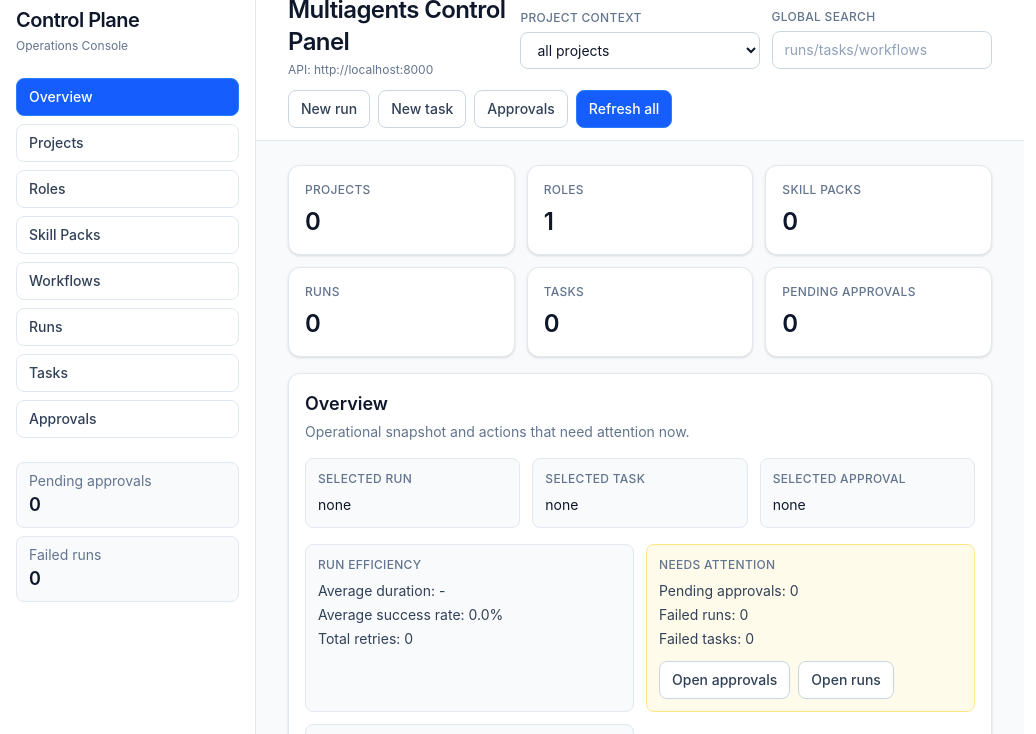
Test: workflow builder critical flows › recommends templates from prompt and applies suggested template
The width and height of the screenshot is (1036, 734).
Click the button "Workflows" at [128, 281], box x1=16 y1=262 x2=239 y2=300
(page scrolled)
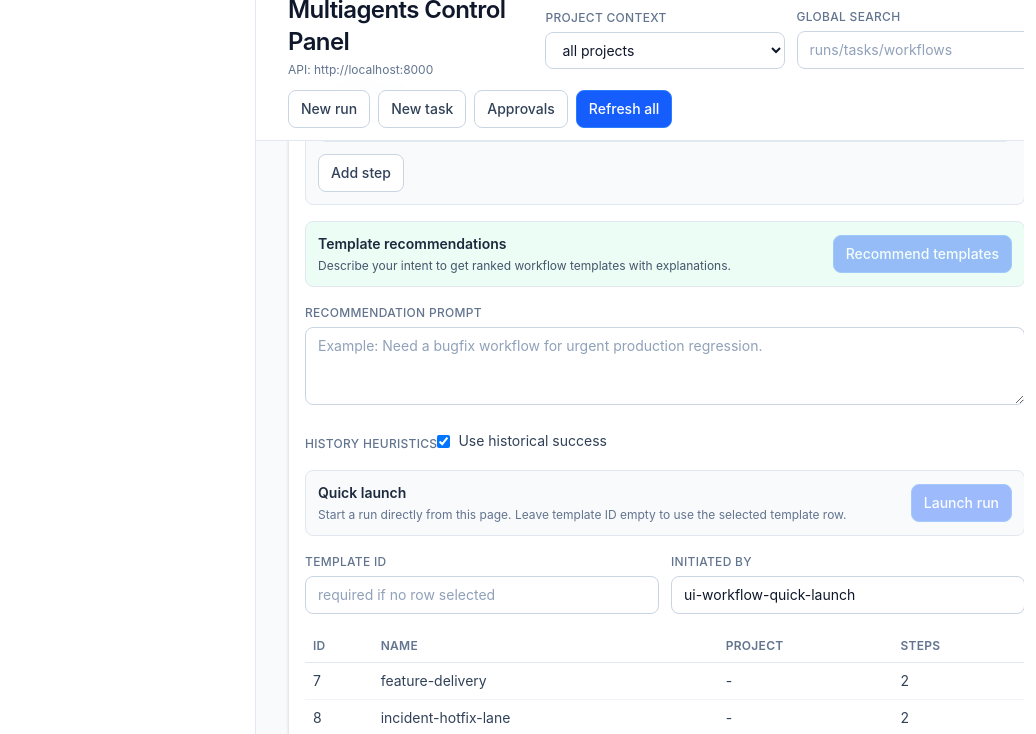
Type "Need incident hotfix workflow for production outage" into the text box labelled "Recommendation prompt" at [664, 366], box x1=305 y1=327 x2=1024 y2=405
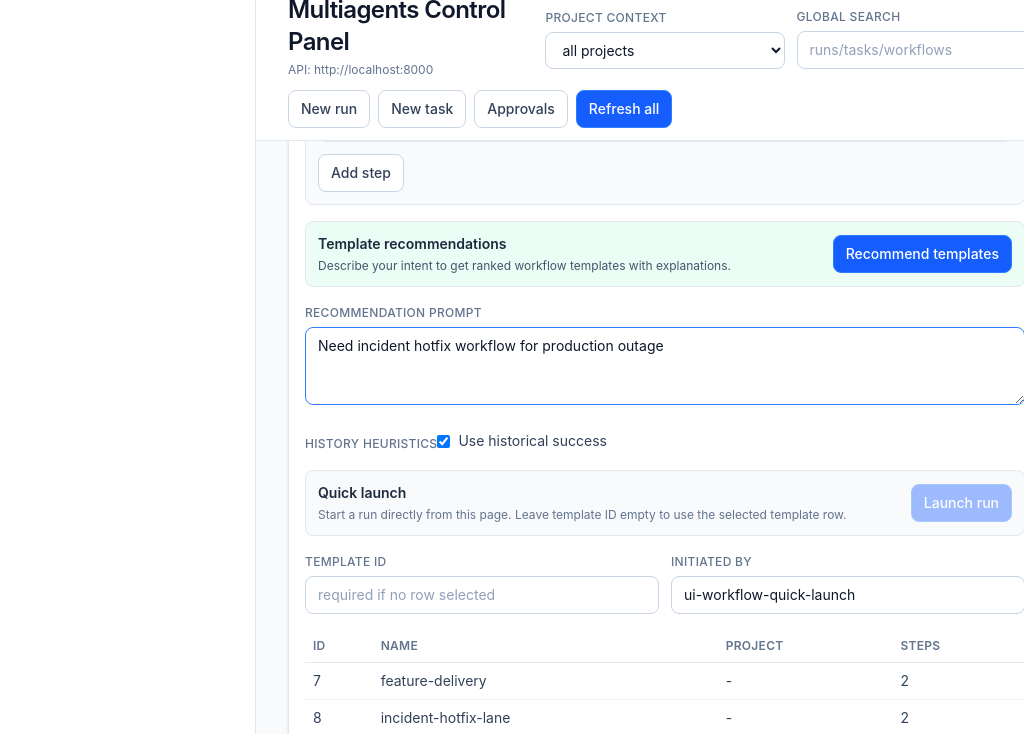
Click the button "Recommend templates" at [922, 254], box x1=833 y1=235 x2=1012 y2=273
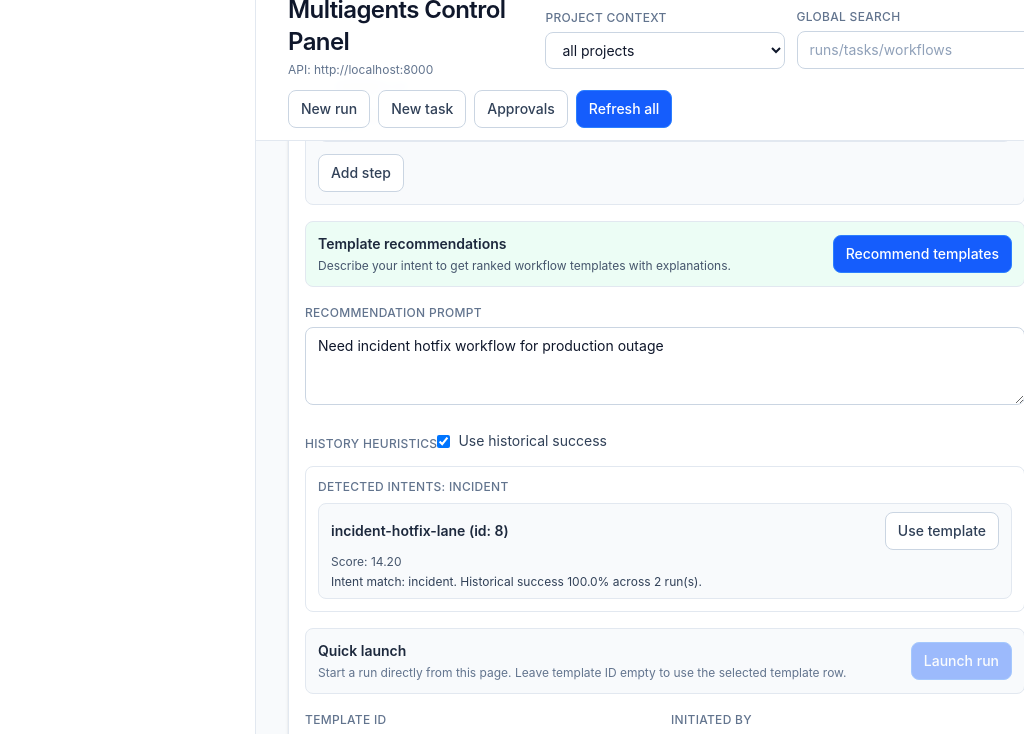
expect the text "Detected intents: incident" is shown: met, box x1=318 y1=478 x2=509 y2=494
expect the text "Intent match: incident. Historical success 100.0% across 2 run(s)." is shown: met, box x1=331 y1=574 x2=702 y2=588
Click the button "Use template" at [942, 530], box x1=885 y1=512 x2=999 y2=550
(page scrolled)
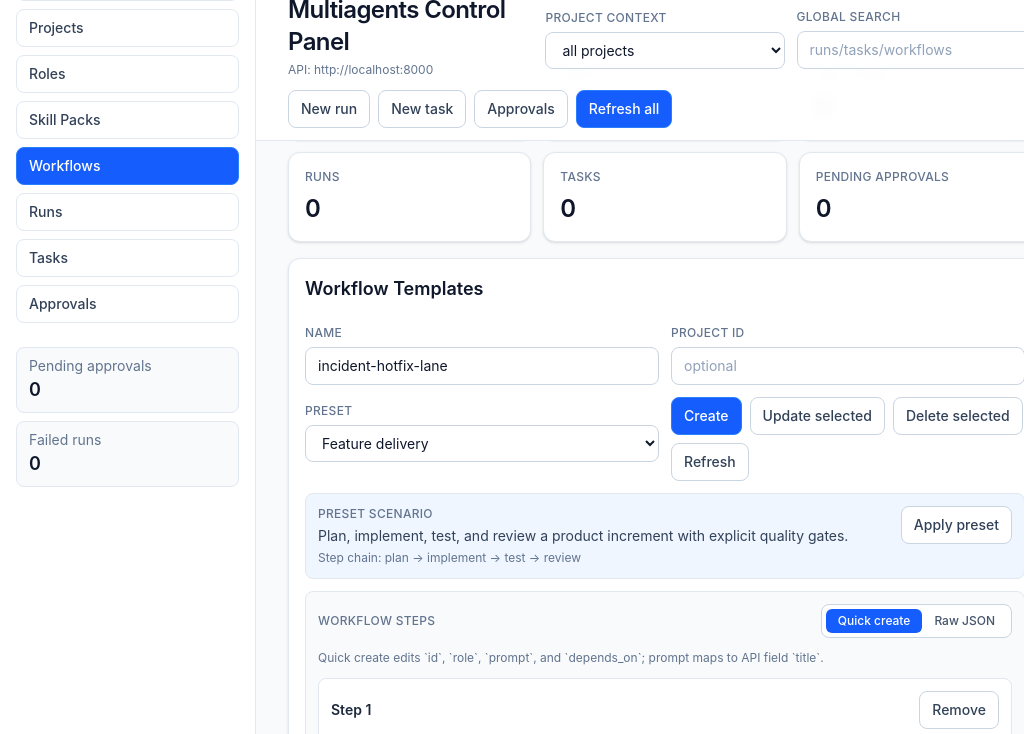
expect the field labelled "Name" holds "incident-hotfix-lane": met, box x1=305 y1=347 x2=659 y2=385
